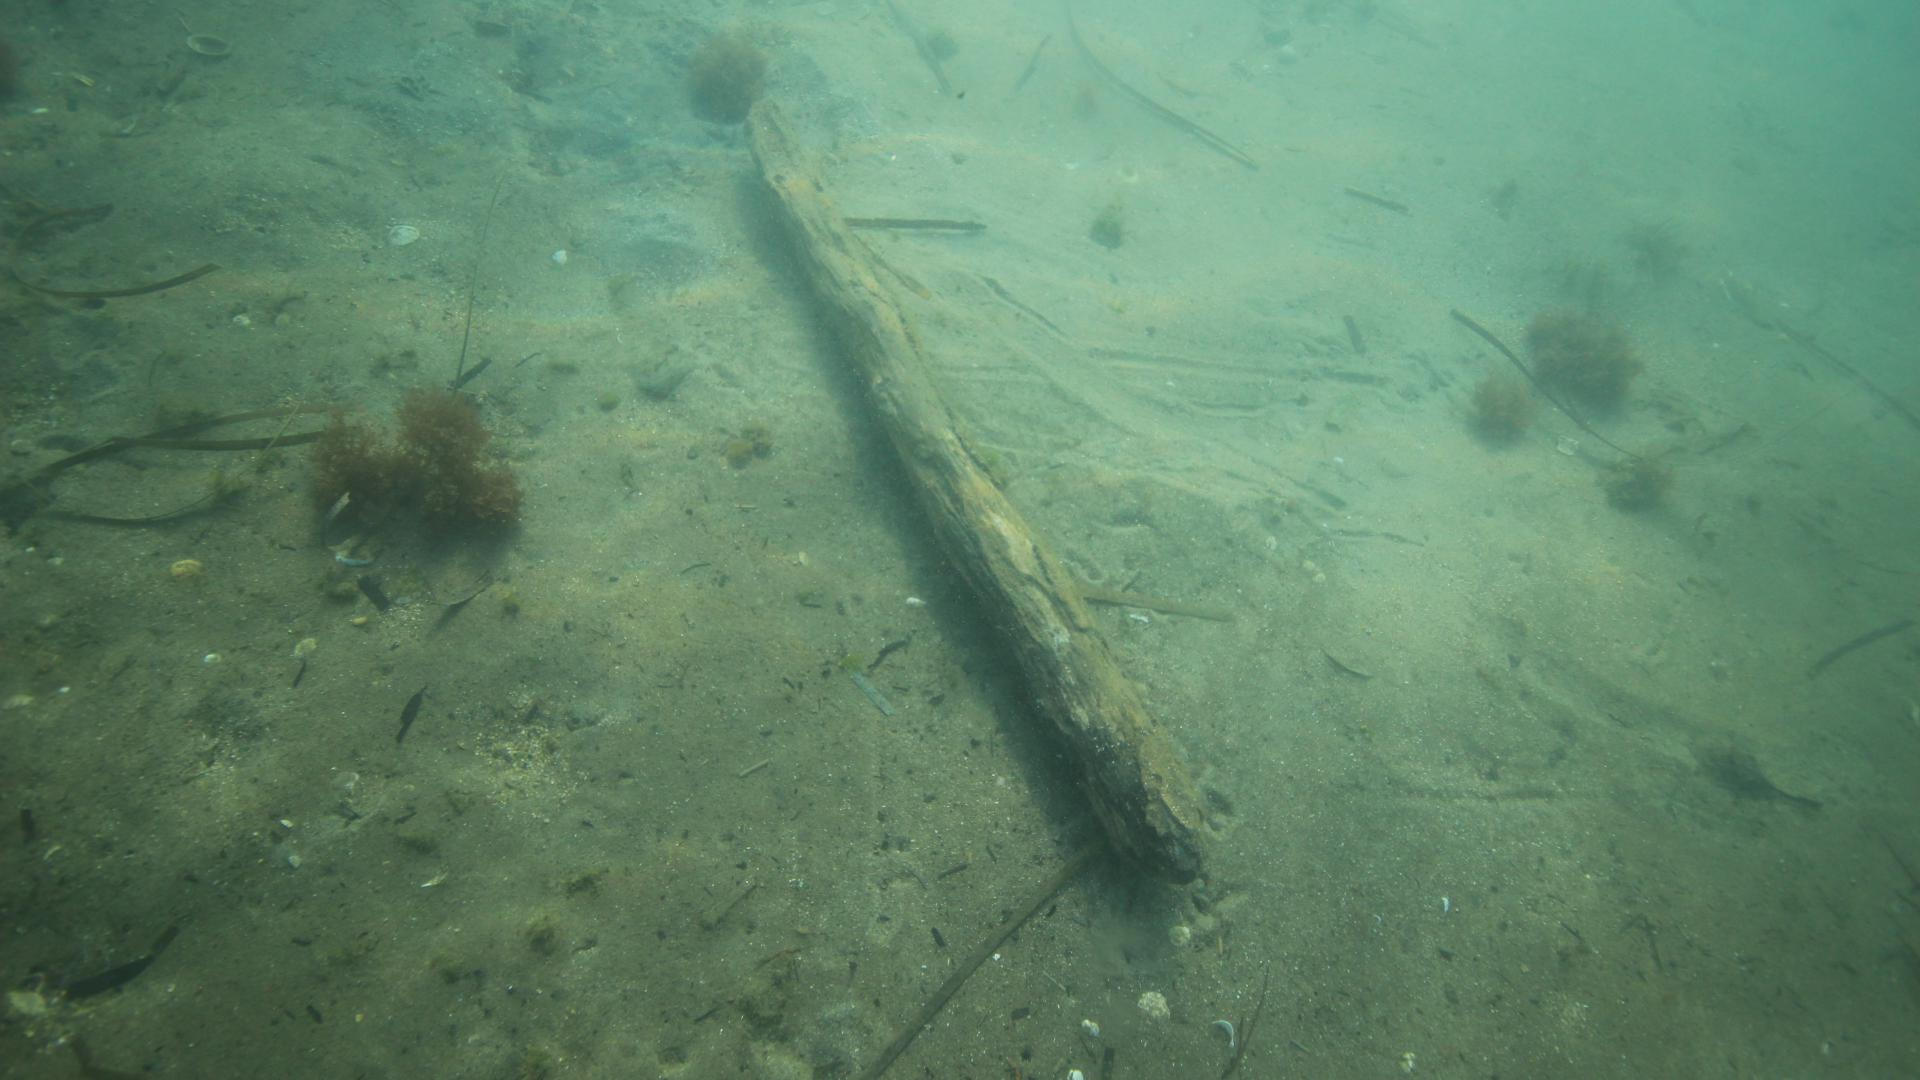wood: (738, 94, 1211, 885)
